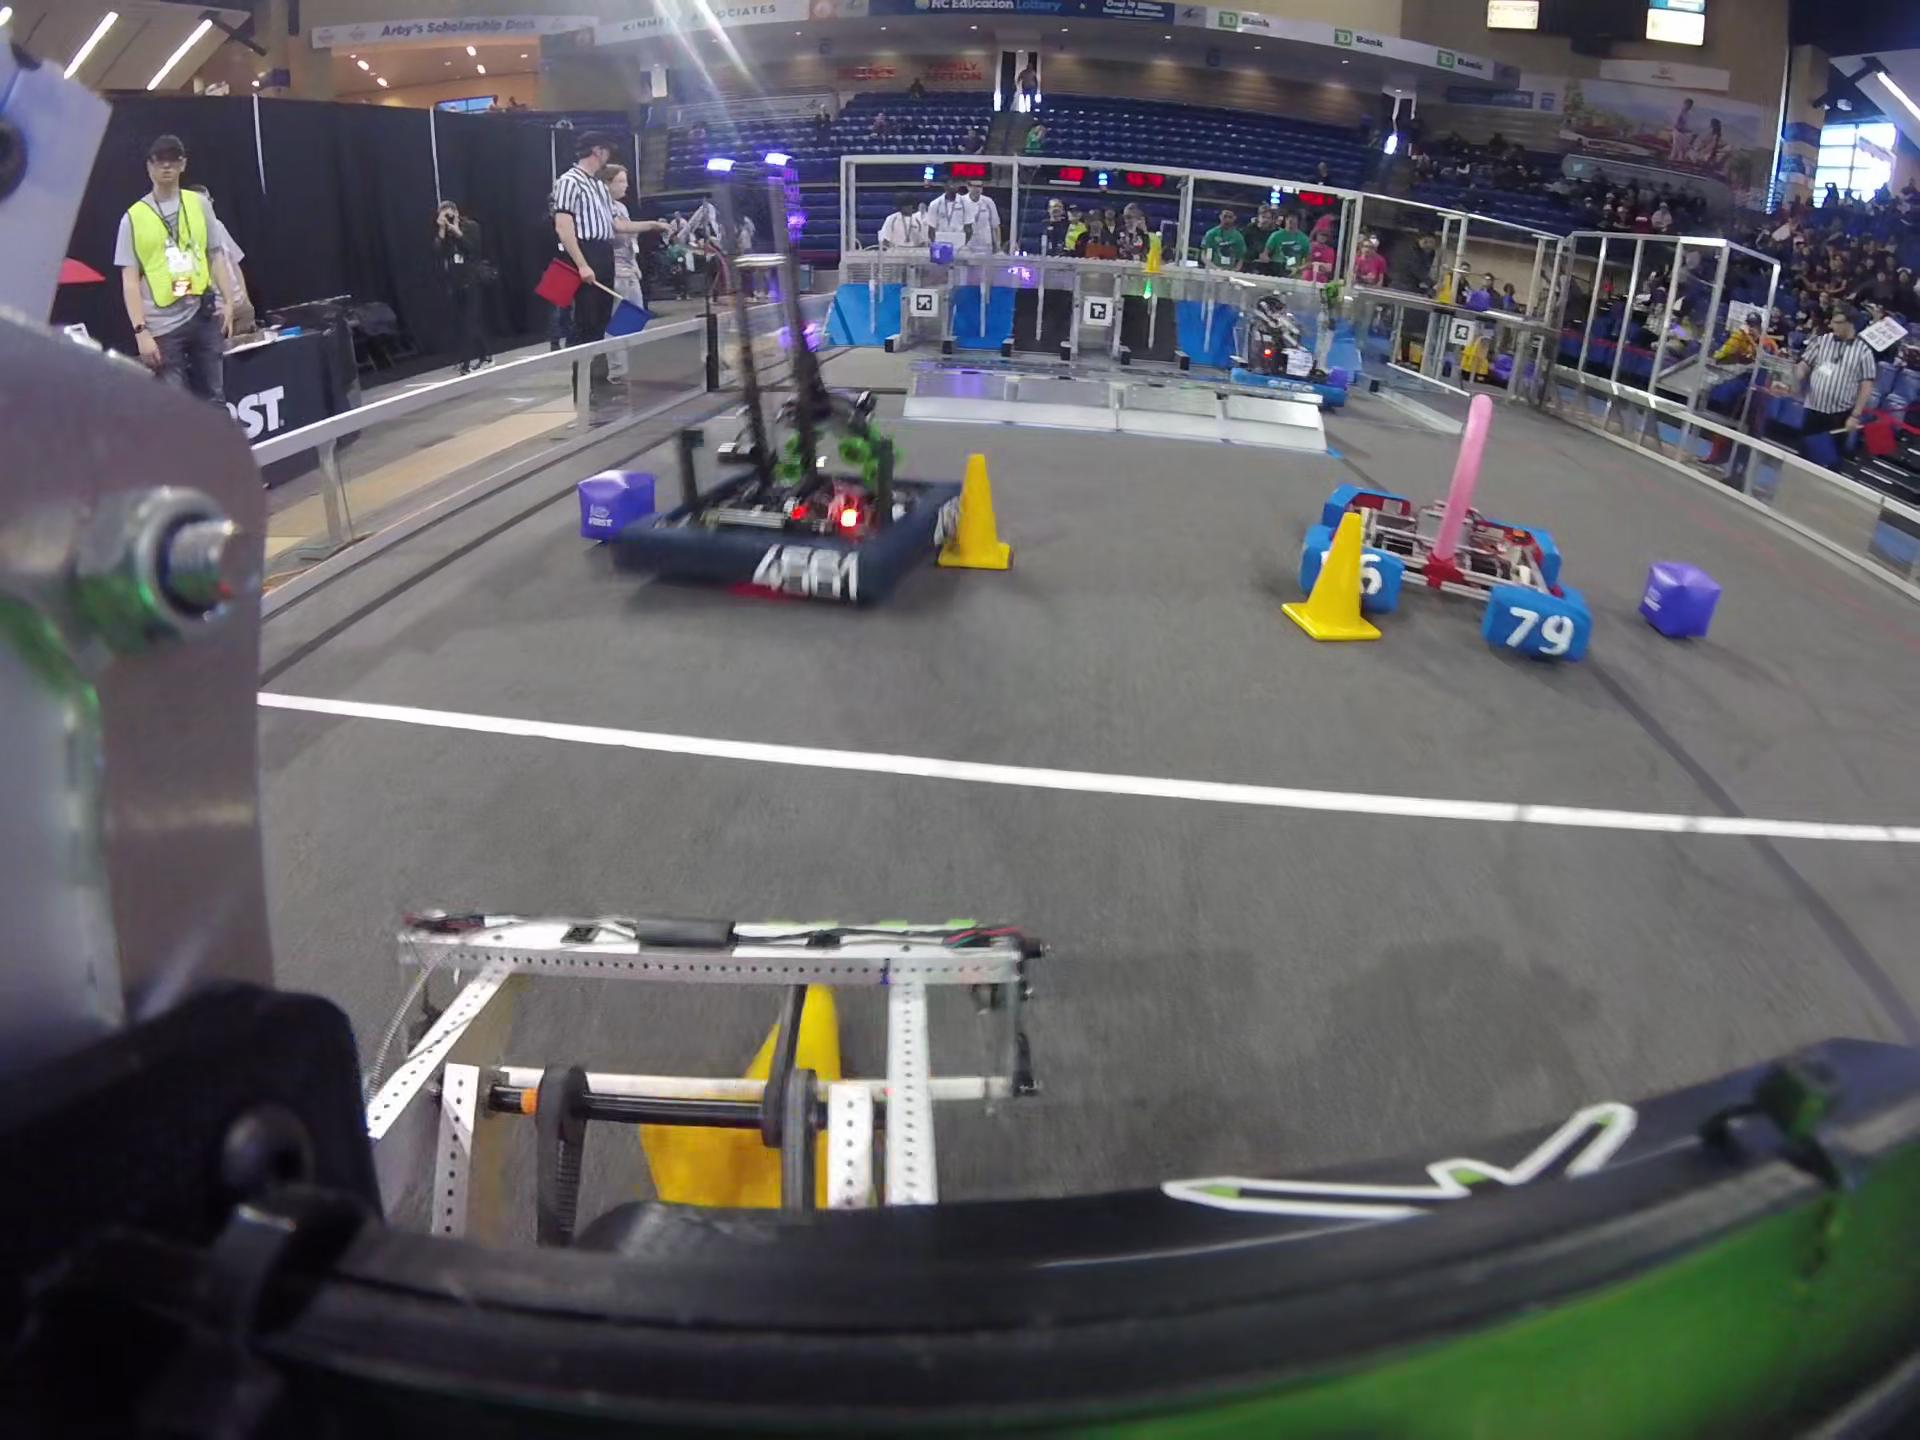robot: (617, 160, 965, 607), (1293, 422, 1603, 670), (1228, 290, 1352, 408)
